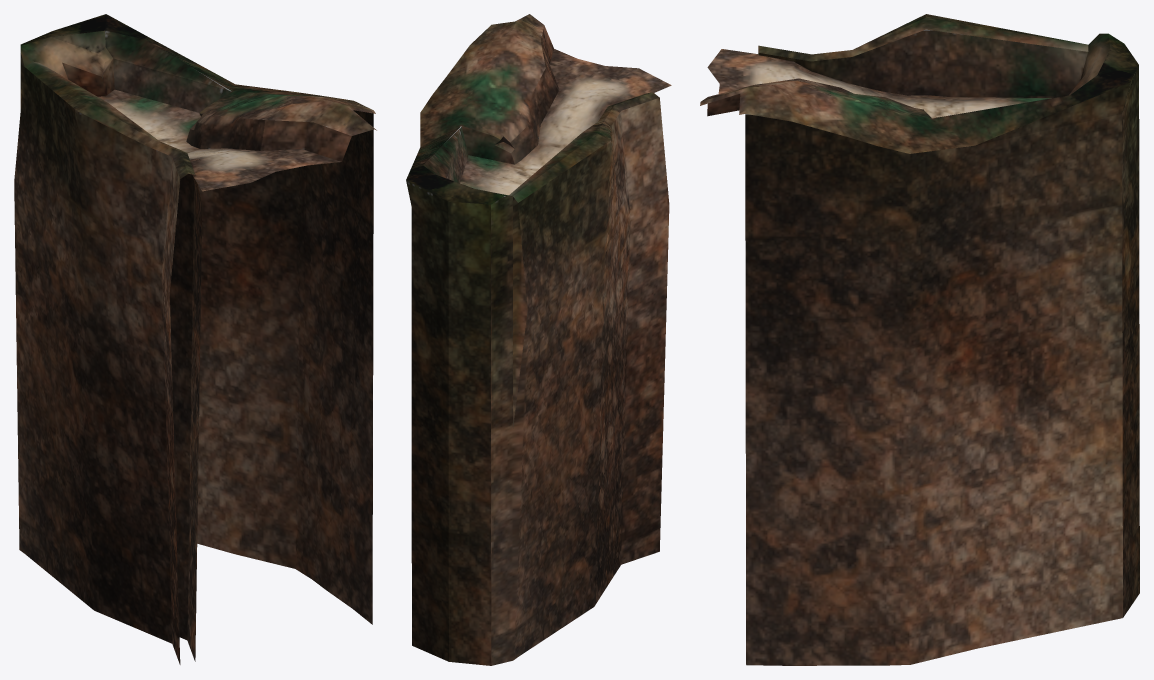
The model's file is bluff-nook.glb.
3 renders of one model, left to right at view 1: azimuth 30°, elevation 25°; view 2: azimuth 150°, elevation 25°; view 3: azimuth 270°, elevation 25°, orthographic. The views are drawn at different scales.
Visible parts, largest first — view 1: BluffNook-col; view 2: BluffNook-col; view 3: BluffNook-col.
Boxes of the visible parts, x1,y1,x2,y2 form: BluffNook-col: (14,14,376,664); BluffNook-col: (406,14,671,665); BluffNook-col: (700,14,1139,665).
Bounding box in the file's own units: 8.19 × 19.23 × 13.6.
Materials: 1 (1 with a texture image).
